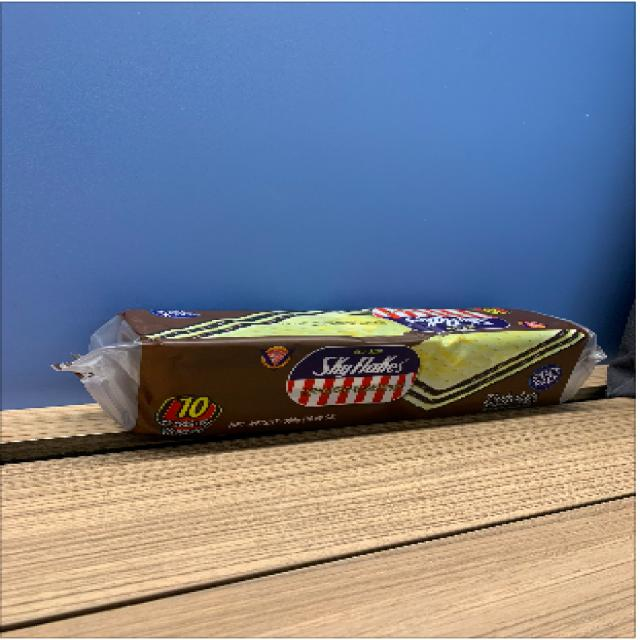object_name: (95, 316, 588, 414)
